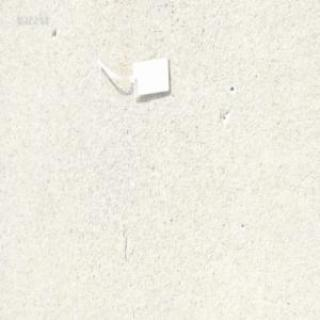LuggageTagtrack_idkeyframe: (94, 51, 171, 100)
